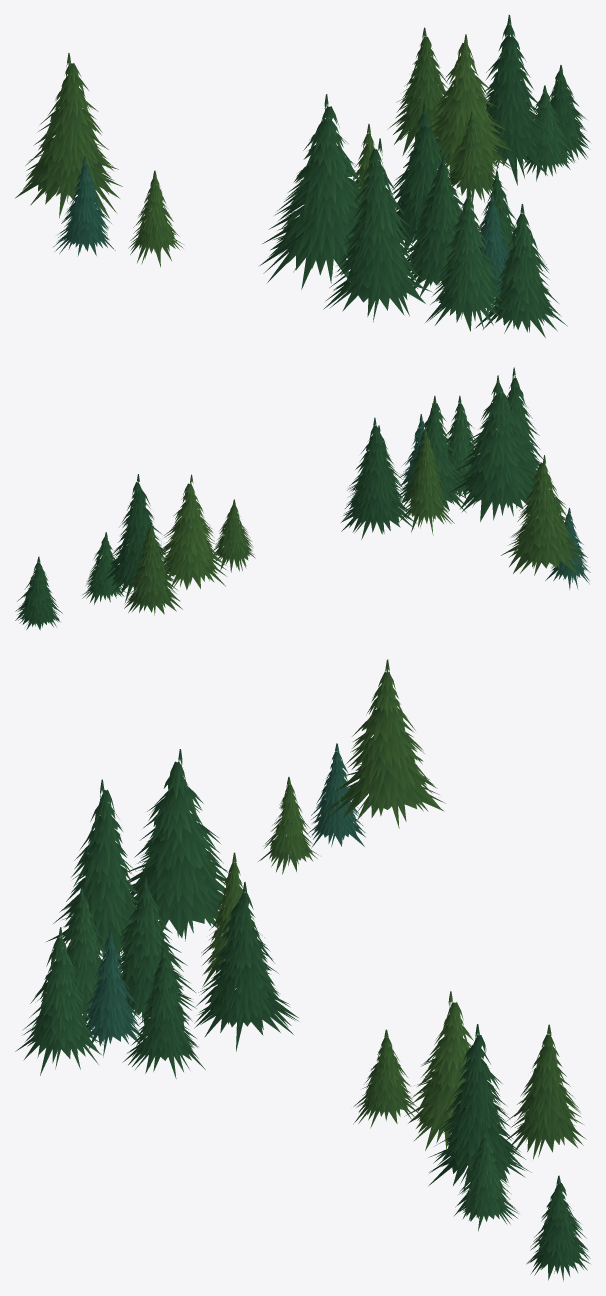
Rendered from pine_15.glb.
The picture shows the model from 3 angles, top to bottom: view 1: azimuth 30°, elevation 25°; view 2: azimuth 150°, elevation 25°; view 3: azimuth 270°, elevation 25°; orthographic projection. The views are drawn at different scales.
Visible parts, largest first — view 1: pine_15; view 2: pine_15; view 3: pine_15.
Boxes of the visible parts, x1,y1,x2,y2 form: pine_15: (15,15,590,337); pine_15: (15,367,590,630); pine_15: (15,659,590,1281).
Bounding box in the file's own units: 57.79 × 25.46 × 42.28.
Materials: 1 (1 with a texture image).
